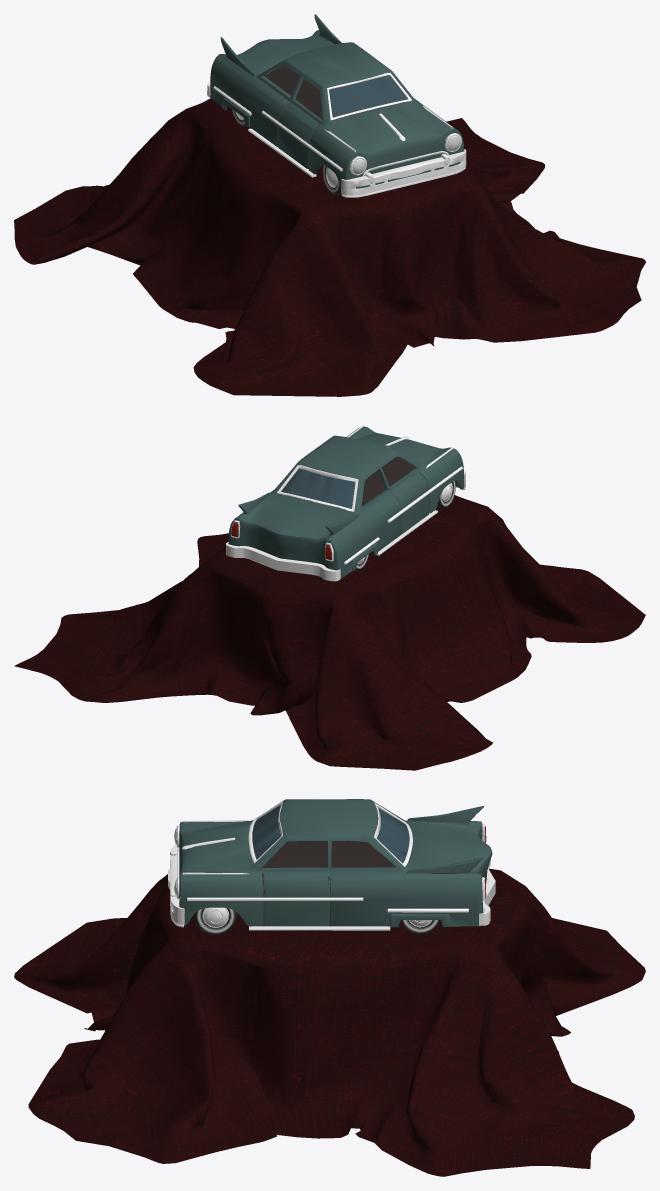
File: touring.glb
3 views of the same model, one above another, from view 1: azimuth 30°, elevation 25°; view 2: azimuth 150°, elevation 25°; view 3: azimuth 270°, elevation 25° (orthographic). The views are drawn at different scales.
Parts seen in each view (by area): view 1: ToyCar; view 2: ToyCar; view 3: ToyCar.
Part boxes in pixels (x1,y1,x2,y2): ToyCar: (14,14,645,396); ToyCar: (14,425,645,770); ToyCar: (14,799,645,1176).
Bounding box in the file's own units: 0.0734 × 0.0289 × 0.074.
3 materials, 2 textured.
